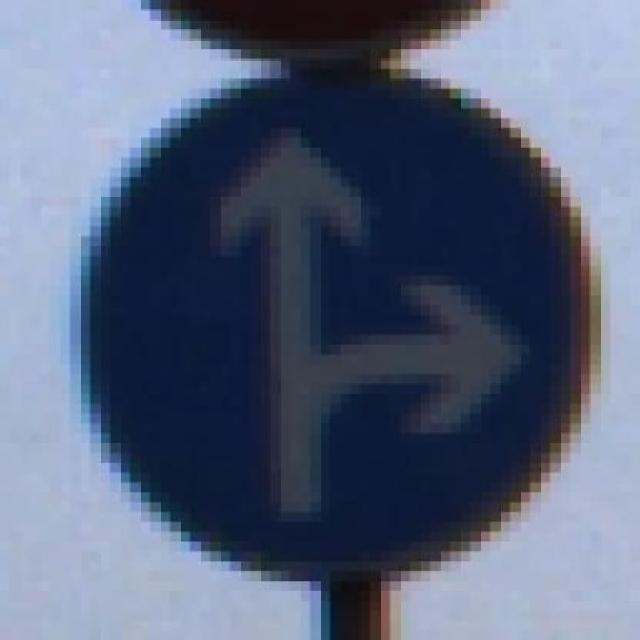Go Straight or Turn Right: (69, 68, 620, 581)
